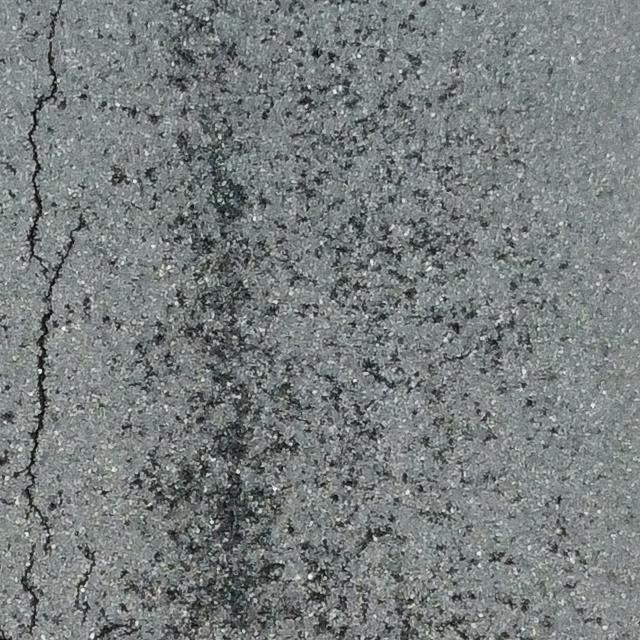LongitudinalCrack: (20, 1, 82, 632)
